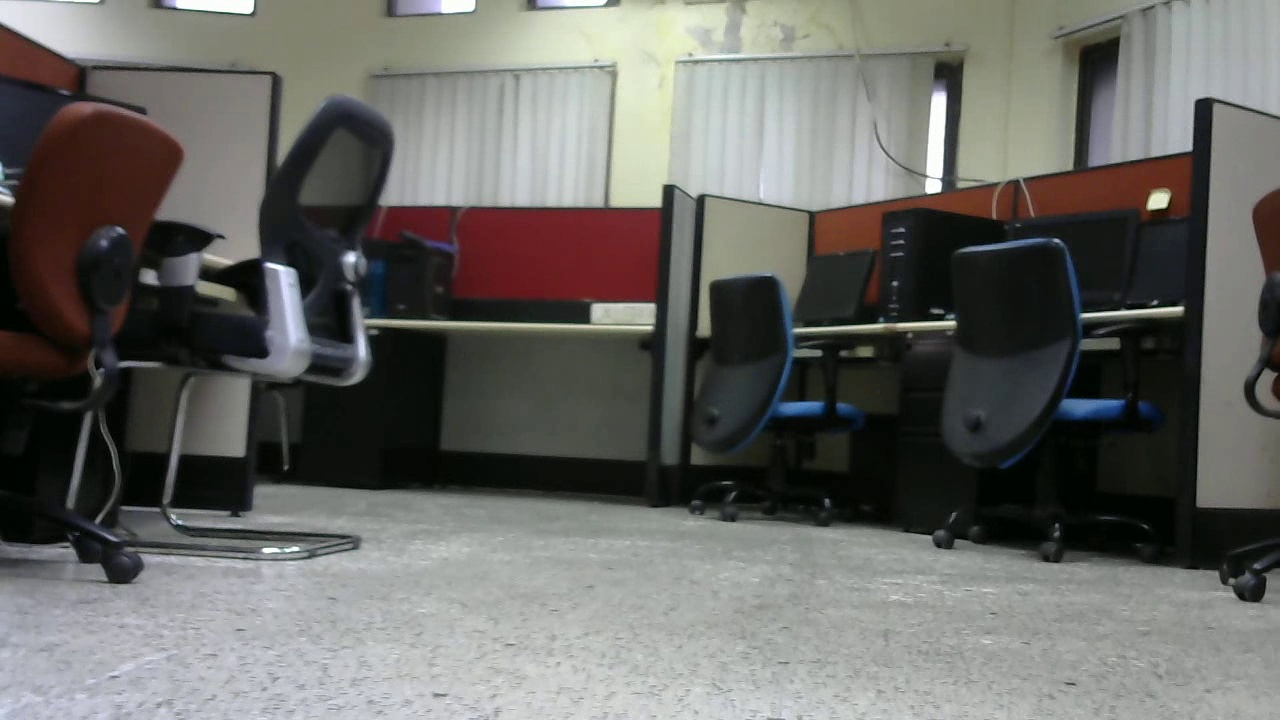chair: (164, 89, 415, 563), (1, 97, 207, 580), (917, 232, 1169, 577), (677, 266, 878, 529)
